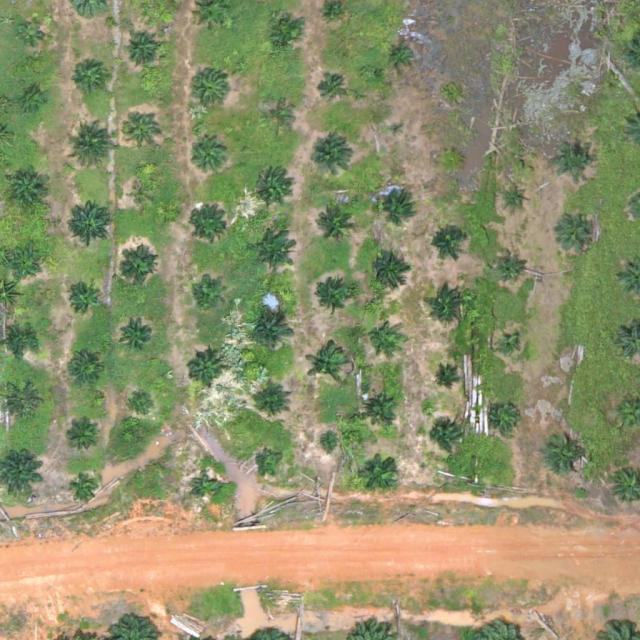Grass: (23, 90, 46, 114)
Healthy: (306, 343, 353, 390)
Small: (311, 279, 358, 327), (251, 228, 298, 276), (314, 200, 361, 248), (543, 430, 590, 478), (66, 125, 113, 172), (67, 196, 114, 243), (309, 137, 356, 184), (249, 311, 296, 358), (117, 248, 157, 288), (120, 315, 160, 355), (362, 453, 402, 493), (562, 212, 601, 252), (430, 223, 469, 263), (256, 168, 295, 208), (266, 15, 305, 55), (192, 139, 231, 179), (124, 110, 163, 150), (4, 383, 43, 423), (254, 385, 294, 424), (187, 352, 226, 392), (7, 171, 46, 210), (71, 57, 110, 96), (555, 140, 594, 179), (431, 286, 470, 325), (377, 185, 416, 224), (122, 30, 161, 69), (191, 205, 230, 244), (370, 252, 409, 291), (190, 70, 229, 109), (362, 388, 401, 427), (8, 251, 39, 283), (68, 282, 99, 314), (70, 353, 101, 385), (258, 446, 289, 478), (191, 472, 222, 504), (128, 389, 159, 421), (317, 74, 348, 106), (5, 327, 36, 358), (368, 321, 399, 352), (192, 279, 223, 310), (67, 423, 98, 454), (431, 423, 462, 454), (493, 402, 524, 433), (495, 251, 526, 282), (264, 102, 295, 133), (71, 473, 102, 504), (388, 41, 419, 72), (505, 187, 529, 211), (499, 336, 523, 360), (317, 432, 341, 456), (440, 150, 464, 174), (433, 368, 456, 392), (133, 184, 156, 208), (20, 21, 43, 44), (390, 121, 406, 137), (325, 3, 341, 19)
